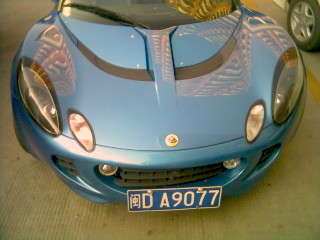plate_number: (126, 187, 221, 210)
